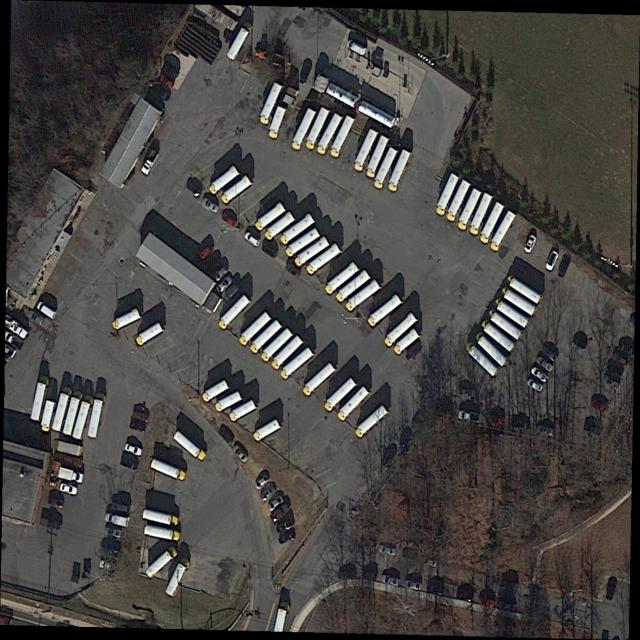large-vehicle: (324, 376, 358, 413), (270, 335, 304, 371), (345, 279, 382, 312), (336, 386, 370, 421), (367, 294, 402, 328), (302, 363, 337, 397), (260, 327, 294, 362), (306, 243, 341, 277), (384, 313, 418, 347), (325, 262, 359, 296), (355, 403, 389, 437), (280, 347, 315, 380), (218, 294, 251, 329), (372, 147, 398, 191), (353, 128, 378, 173), (305, 106, 330, 151), (238, 312, 271, 346), (466, 342, 499, 376), (489, 211, 517, 251), (316, 113, 342, 156), (291, 107, 317, 150), (446, 179, 471, 223), (336, 270, 370, 302), (281, 213, 315, 245), (250, 320, 282, 354), (294, 237, 329, 268), (227, 21, 254, 61), (457, 188, 482, 231), (259, 81, 284, 124), (330, 114, 355, 157), (479, 202, 505, 243), (475, 332, 507, 365), (144, 547, 177, 579), (173, 430, 207, 461), (435, 174, 460, 216), (494, 298, 529, 328), (164, 557, 190, 597), (469, 192, 493, 235), (489, 310, 523, 340), (71, 395, 93, 441), (365, 136, 389, 178), (482, 322, 515, 352), (388, 149, 411, 192), (285, 229, 320, 257), (501, 288, 536, 316), (506, 277, 542, 304), (30, 375, 51, 421), (221, 175, 252, 206), (208, 165, 239, 196), (254, 202, 286, 232), (263, 212, 295, 242), (63, 391, 84, 436), (51, 388, 72, 431), (87, 392, 106, 439), (150, 458, 187, 482), (112, 309, 141, 334), (201, 378, 229, 403), (229, 399, 258, 423), (267, 105, 287, 139), (394, 329, 420, 355), (253, 419, 282, 442), (136, 322, 162, 347), (144, 525, 181, 542), (142, 509, 178, 526), (215, 391, 242, 412), (41, 401, 56, 432)
small-vehicle: (140, 149, 160, 177), (56, 466, 85, 485), (297, 57, 315, 85), (268, 503, 290, 525), (555, 254, 573, 280), (529, 364, 550, 386), (345, 38, 369, 57), (544, 248, 561, 274), (199, 194, 220, 215), (380, 446, 399, 469), (232, 442, 251, 465), (397, 425, 415, 449), (47, 460, 63, 487), (222, 282, 242, 303), (104, 512, 130, 528), (522, 232, 539, 256), (265, 493, 285, 513), (242, 229, 262, 249), (524, 376, 545, 395), (535, 354, 556, 373), (36, 300, 57, 319), (118, 455, 140, 473), (194, 243, 213, 263), (541, 344, 559, 365), (457, 409, 482, 424), (122, 441, 144, 458), (589, 397, 608, 416), (215, 274, 234, 293), (259, 484, 278, 503), (185, 178, 203, 198), (216, 426, 234, 446), (27, 310, 46, 328), (57, 482, 79, 497), (602, 373, 620, 391), (260, 243, 278, 261), (253, 473, 271, 491), (101, 537, 122, 552), (158, 73, 176, 90), (221, 210, 238, 228), (611, 352, 630, 368), (276, 518, 295, 534), (213, 264, 229, 283), (107, 503, 130, 516), (377, 544, 398, 558), (63, 455, 84, 469), (605, 578, 617, 602), (606, 363, 624, 379), (46, 495, 65, 510), (486, 415, 506, 429), (380, 574, 401, 587), (285, 263, 302, 279), (584, 422, 602, 437), (279, 531, 297, 546), (128, 421, 147, 435), (535, 424, 555, 437), (104, 526, 122, 540), (98, 559, 116, 573), (618, 341, 634, 356), (456, 589, 474, 602), (510, 419, 528, 432), (131, 411, 150, 423), (478, 595, 495, 608), (403, 579, 423, 590), (498, 601, 517, 612), (427, 584, 446, 595), (402, 549, 420, 559), (458, 388, 477, 397), (423, 558, 438, 569)
